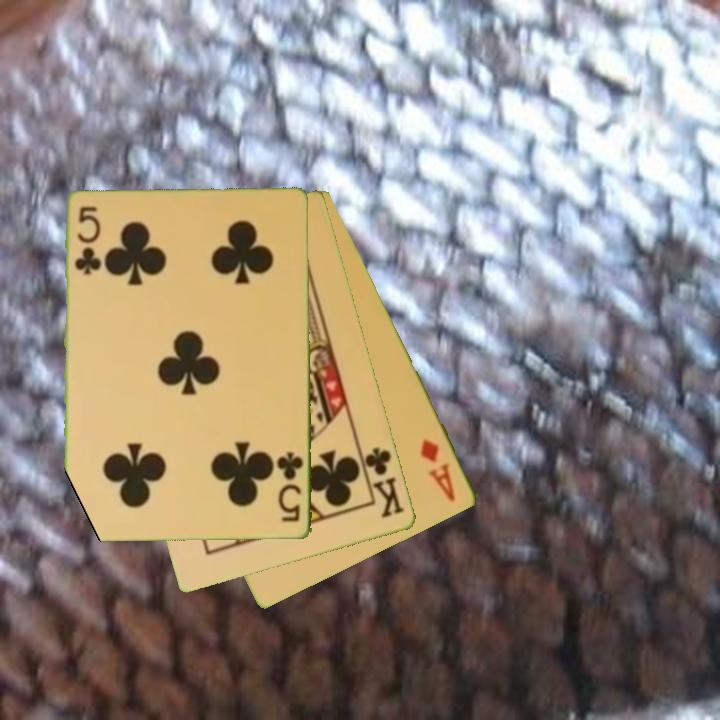5c: (273, 449, 306, 526), (72, 204, 100, 278)
Ad: (417, 436, 459, 506)
Kc: (357, 444, 408, 521)
